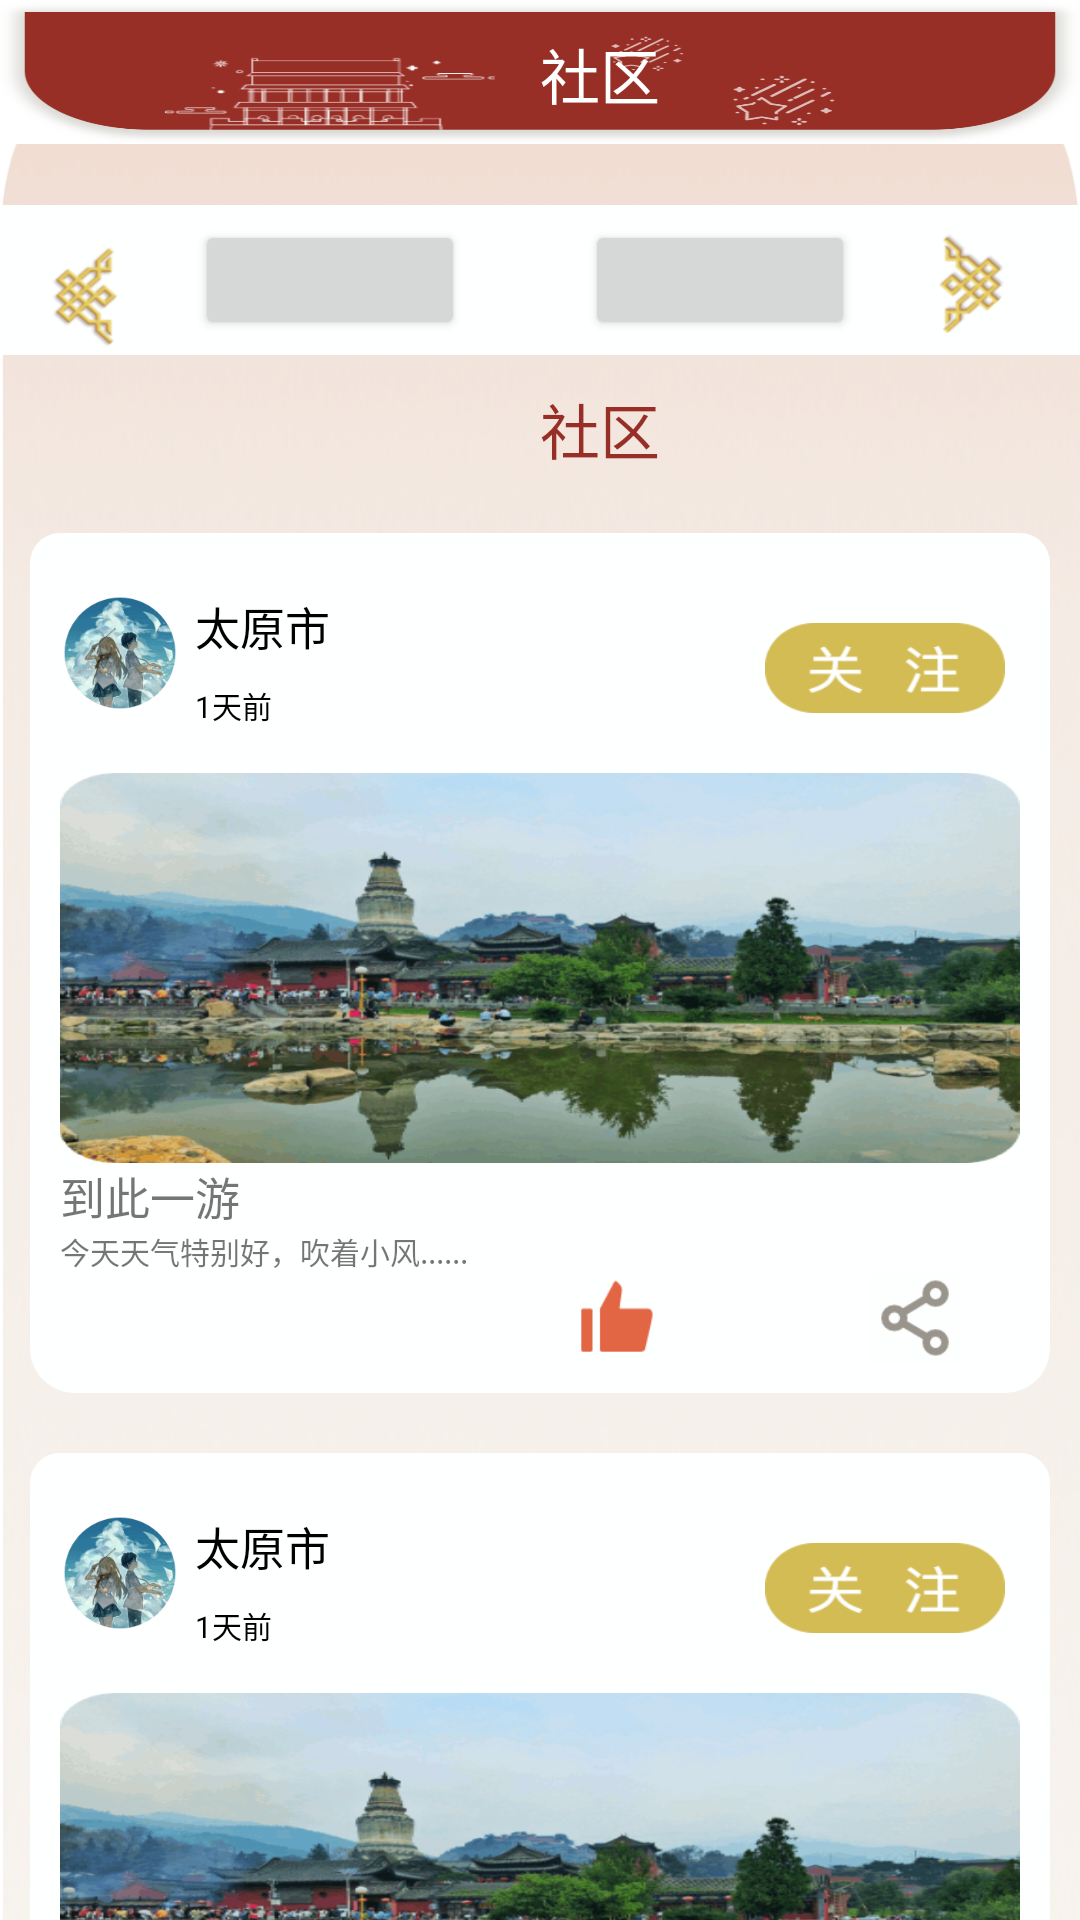

Named icons in this screenshot (1080x1920) and their centers, (x,y):
appreciate: (617,1316)
share: (915,1318)
